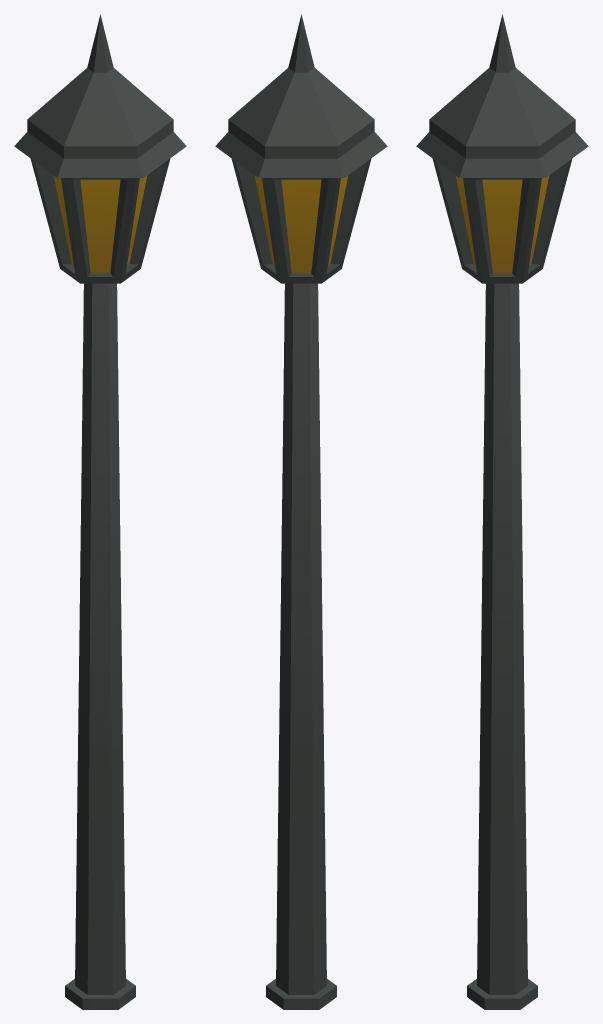
The model's file is Street_lamp_02.fbx.
The picture shows the model from 3 angles, left to right: view 1: azimuth 30°, elevation 25°; view 2: azimuth 150°, elevation 25°; view 3: azimuth 270°, elevation 25°; orthographic projection.
Visible parts, largest first — view 1: Street_lamp_2; view 2: Street_lamp_2; view 3: Street_lamp_2.
Part boxes in pixels (x1,y1,x2,y2): Street_lamp_2: (14,14,186,1009); Street_lamp_2: (215,14,387,1009); Street_lamp_2: (416,14,588,1009).
Bounding box in the file's own units: 0.9559 × 6.93 × 1.1.
